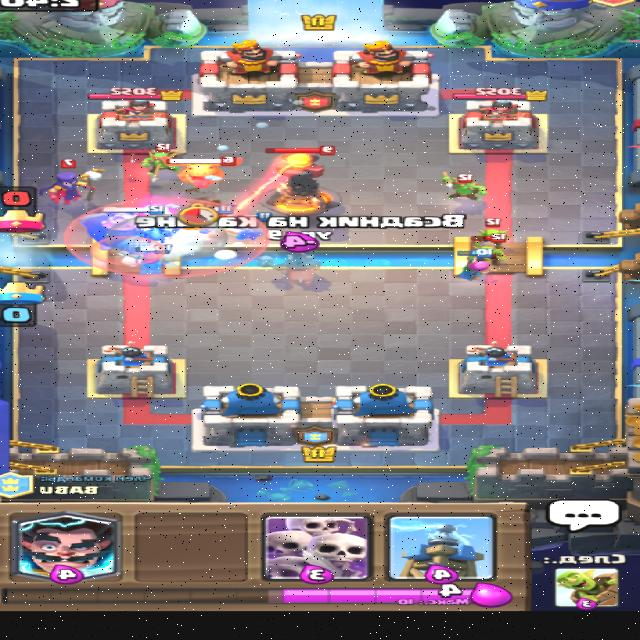Enemy-BabyDragon: (166, 156, 247, 188)
Enemy-Goblin: (472, 233, 508, 264), (478, 217, 512, 236)
Enemy-InfernoTower: (260, 145, 344, 215)
Enemy-SpearGoblin: (142, 142, 188, 175), (442, 171, 489, 202)
Enemy-Witch: (39, 158, 109, 205)
Player-Archer: (454, 247, 496, 281), (134, 243, 174, 276)
Player-Minion: (140, 226, 174, 243), (235, 227, 266, 241)
Player-RoyalGiant: (82, 204, 177, 255)
